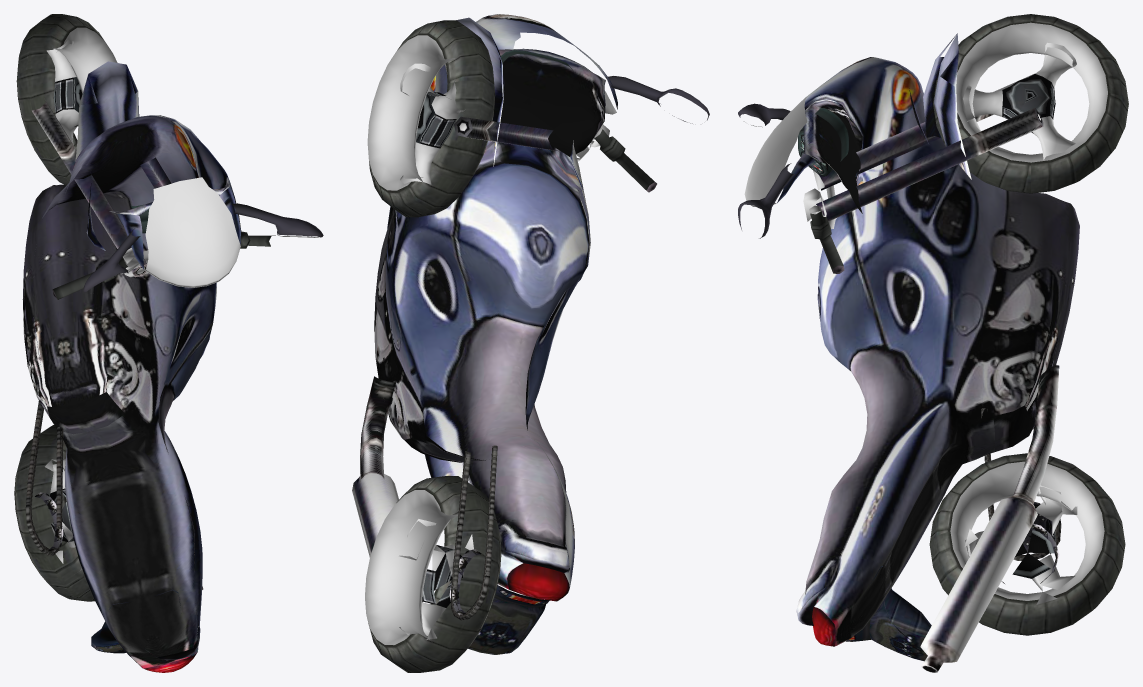
The model's file is Bike.gltf.
3 renders of one model, left to right at view 1: azimuth 30°, elevation 25°; view 2: azimuth 150°, elevation 25°; view 3: azimuth 270°, elevation 25°, orthographic. The views are drawn at different scales.
Parts seen in each view (by area): view 1: bike, weel_fr, handle, weel_bc; view 2: bike, weel_fr, handle, weel_bc; view 3: bike, weel_fr, handle, weel_bc.
Boxes of the visible parts, <box> form: bike: <box>22,115,323,672</box>; weel_fr: <box>14,14,117,601</box>; handle: <box>32,61,275,299</box>; weel_bc: <box>35,459,75,563</box>; bike: <box>352,14,709,654</box>; weel_fr: <box>365,20,501,672</box>; handle: <box>435,17,656,192</box>; weel_bc: <box>399,519,481,639</box>; bike: <box>738,57,1079,672</box>; weel_fr: <box>929,14,1128,635</box>; handle: <box>803,33,1043,273</box>; weel_bc: <box>964,485,1077,604</box>.
Size of the model in its own units: 0.2912 by 0.6986 by 0.3875.
Materials: 5 (3 with a texture image).
